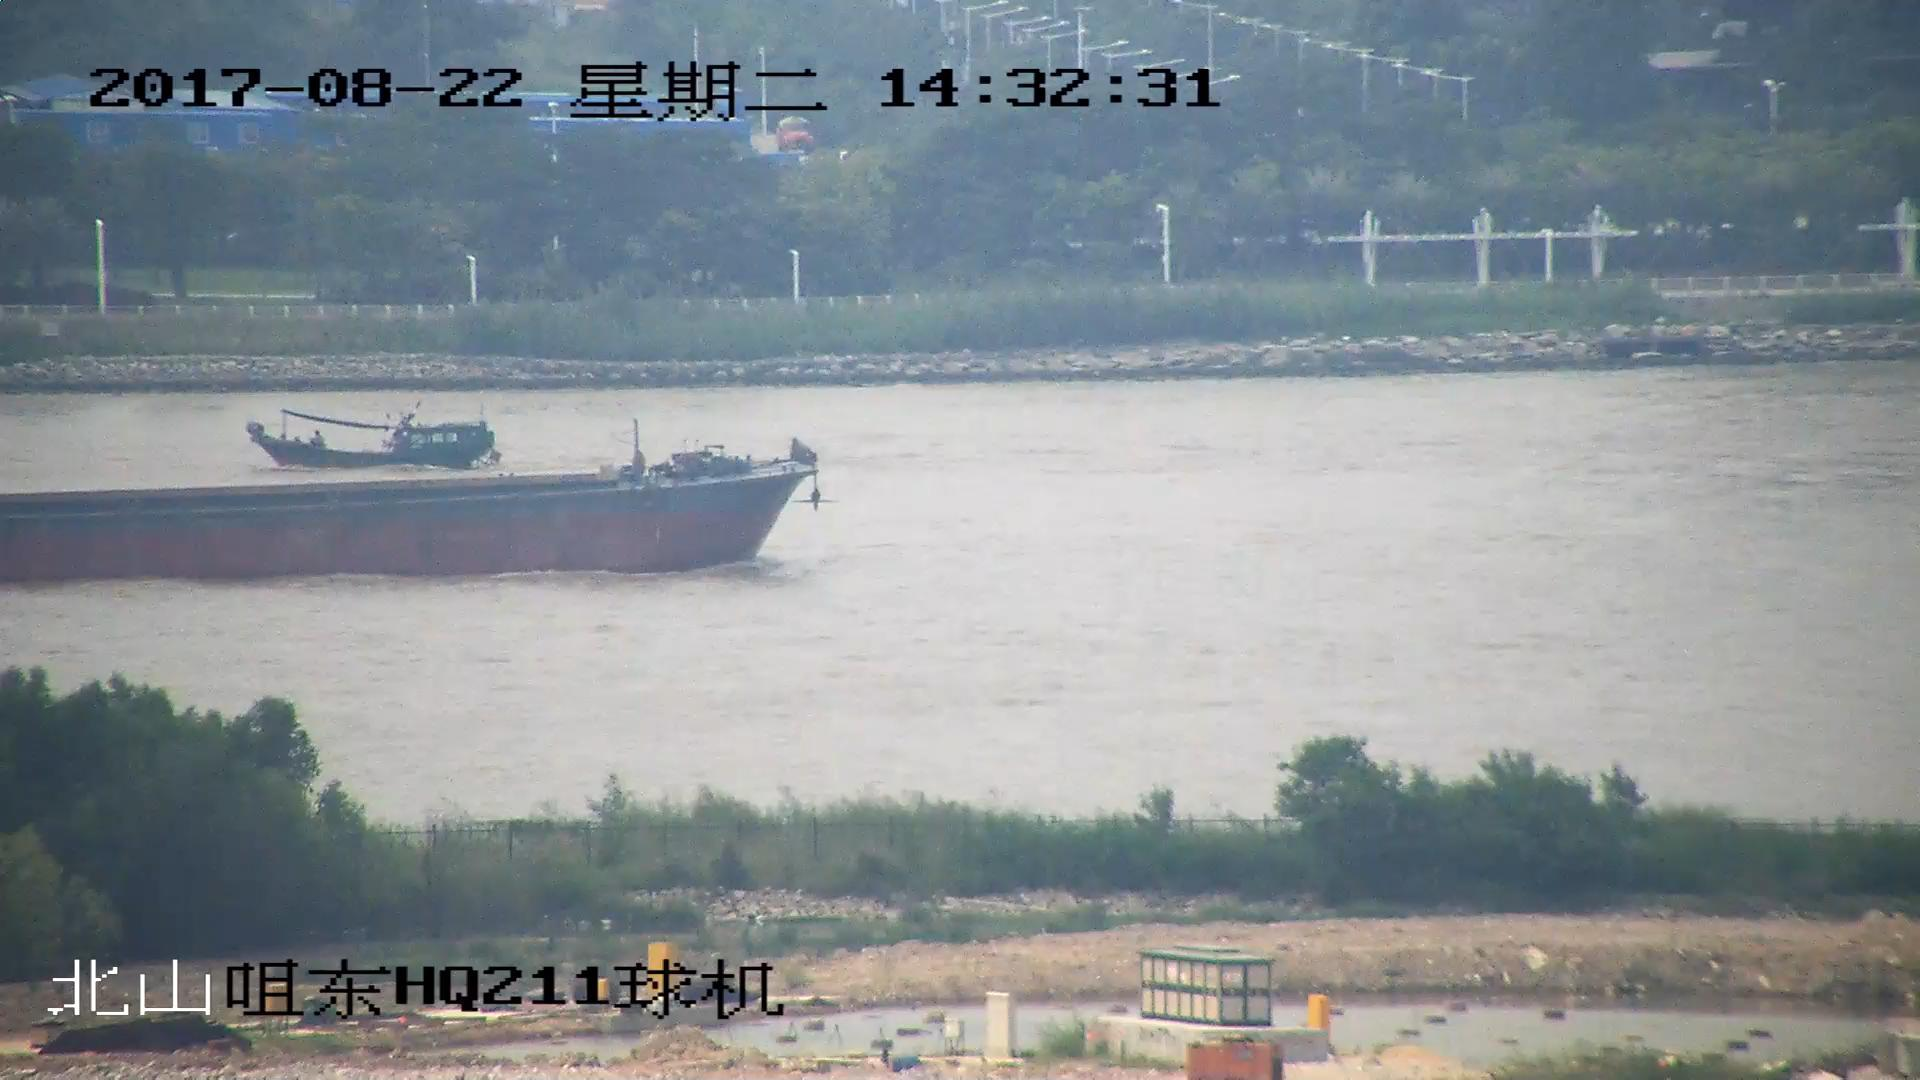Ship: (3, 443, 828, 584), (247, 407, 502, 473)
